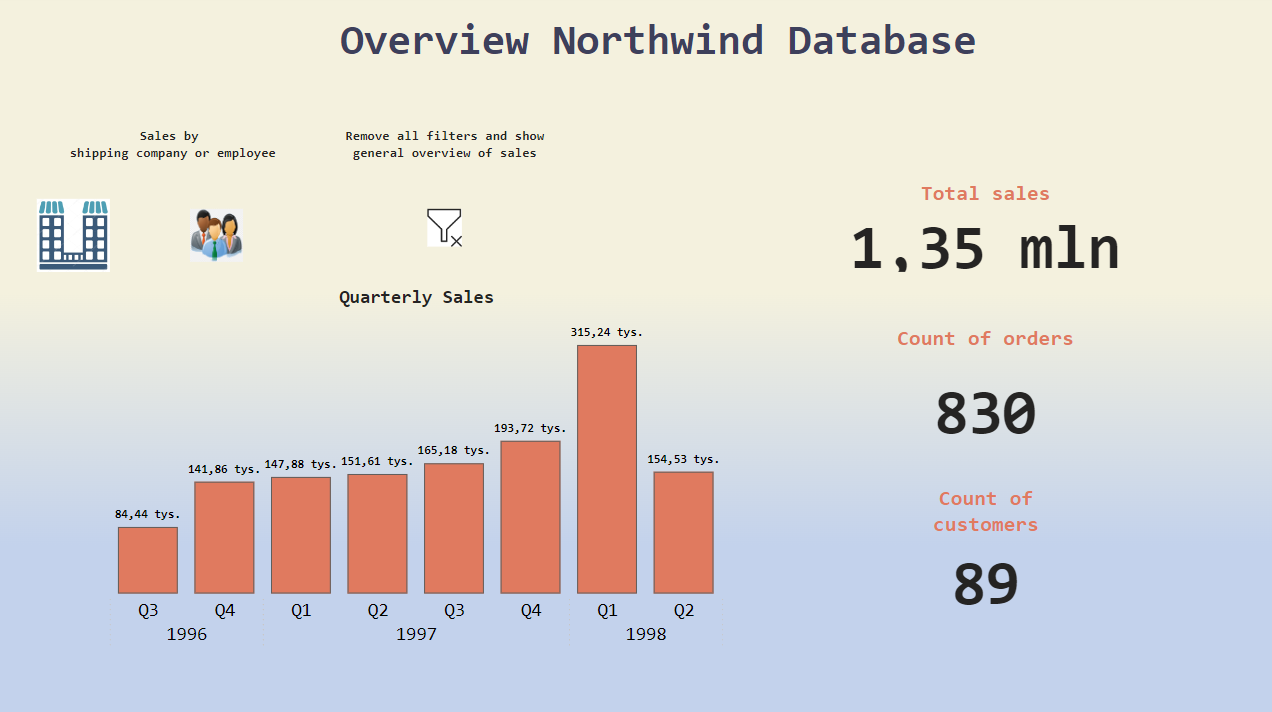

What the dashboard file says about the page in this screenshot:
{"tool":"powerbi","page":{"name":"Northwind Database","canvas":[1280,720],"ordinal":0},"visuals":[{"type":"textbox","title":"Title of card","box":[303.8,15,713.8,71.2],"z":5000},{"type":"textbox","title":"Text remove filters","box":[332.2,125.6,231.1,46.7],"z":6000},{"type":"image","title":"Picture company","box":[33.3,198.9,88.9,82.2],"z":7000},{"type":"textbox","title":"Text sales by company or employee","box":[33.3,125.6,286.7,46.7],"z":8000},{"type":"image","title":"Picture remove filters","box":[402.5,208.8,88.8,47.5],"z":9000},{"type":"image","box":[160,208.9,120,62.2],"z":10000},{"type":"card","title":"Total sales","fields":{"Values":["Messure.Sum of Sales"]},"box":[820,185,332.5,96.2],"z":11000},{"type":"card","title":"Count of orders","fields":{"Values":["Messure.Count of Orders"]},"box":[862.5,330,247.5,136.2],"z":12000},{"type":"card","title":"Count of customers","fields":{"Values":["Messure.Count of customers"]},"box":[886.2,488.8,201.2,131.2],"z":13000},{"type":"clusteredColumnChart","title":"Quarterly Sales ","fields":{"Category":["Calendar.Date Hierarchy.Year","Calendar.Date Hierarchy.Quarter"],"Y":["Messure.Sum of Sales"]},"box":[87.5,291.2,665,368.8],"z":14000}]}

Visuals, with their boxes in screenshot pixels (x1, y1, x2, y2), scaled from the page's 1280x720 canvas onto the 1272x712 screenshot:
"Title of card" textbox: box(302, 15, 1011, 85)
"Text remove filters" textbox: box(330, 124, 560, 170)
"Picture company" image: box(33, 197, 121, 278)
"Text sales by company or employee" textbox: box(33, 124, 318, 170)
"Picture remove filters" image: box(400, 206, 488, 253)
image: box(159, 207, 278, 268)
"Total sales" card: box(815, 183, 1145, 278)
"Count of orders" card: box(857, 326, 1103, 461)
"Count of customers" card: box(881, 483, 1081, 613)
"Quarterly Sales " clusteredColumnChart: box(87, 288, 748, 653)
